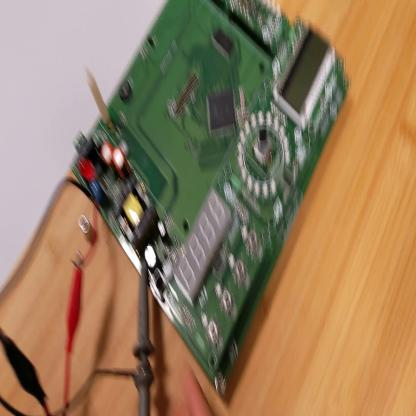hand: (182, 361, 216, 414)
low voltage board: (71, 1, 348, 396)
oscilloscope probe tip: (129, 256, 157, 416)
working area: (2, 2, 416, 413)
